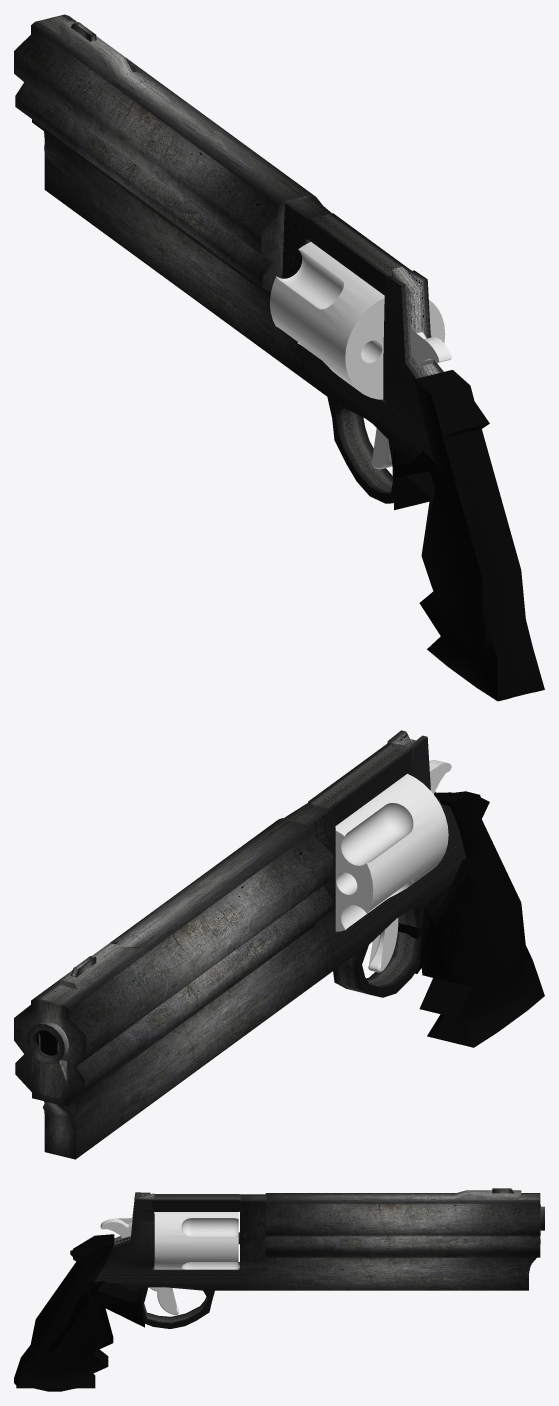
The model's file is Gun.fbx.
The picture shows the model from 3 angles, top to bottom: view 1: azimuth 30°, elevation 25°; view 2: azimuth 150°, elevation 25°; view 3: azimuth 270°, elevation 25°; orthographic projection. The views are drawn at different scales.
Visible parts, largest first — view 1: Barrel, Body_Box, Handvat, Cylinder, Capsule_4_2; view 2: Barrel, Body_Box, Handvat, Cylinder, Capsule_4_2, KleineBarrel, Capsule_1_2, Cap_1_2; view 3: Body_Box, Barrel, Handvat, Cylinder, Capsule_3_2, Capsule_2_2, Cap_2_2, Cap_2.
Part boxes in pixels (left/top/right/bottom): Barrel: left=14, top=14, right=322, bottom=296; Body_Box: left=44, top=131, right=443, bottom=503; Handvat: left=392, top=370, right=544, bottom=701; Cylinder: left=270, top=242, right=445, bottom=399; Capsule_4_2: left=276, top=249, right=343, bottom=309; Barrel: left=14, top=818, right=333, bottom=1106; Body_Box: left=42, top=730, right=466, bottom=1159; Handvat: left=398, top=791, right=544, bottom=1047; Cylinder: left=335, top=774, right=448, bottom=931; Capsule_4_2: left=341, top=803, right=413, bottom=865; KleineBarrel: left=27, top=1021, right=68, bottom=1064; Capsule_1_2: left=341, top=880, right=413, bottom=929; Cap_1_2: left=380, top=918, right=397, bottom=970; Body_Box: left=94, top=1192, right=536, bottom=1328; Barrel: left=265, top=1190, right=541, bottom=1257; Handvat: left=14, top=1234, right=144, bottom=1391; Cylinder: left=154, top=1212, right=238, bottom=1269; Capsule_3_2: left=181, top=1218, right=238, bottom=1237; Capsule_2_2: left=181, top=1262, right=238, bottom=1269; Cap_2_2: left=150, top=1287, right=177, bottom=1314; Cap_2: left=101, top=1222, right=131, bottom=1238.
Size of the model in its own units: 311 by 1075 by 2575.
Materials: 3 (1 with a texture image).
